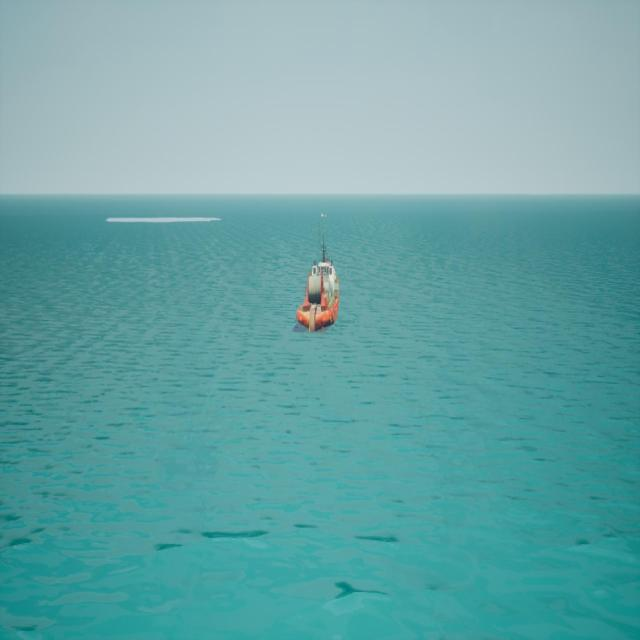tug boat: (297, 215, 342, 334)
